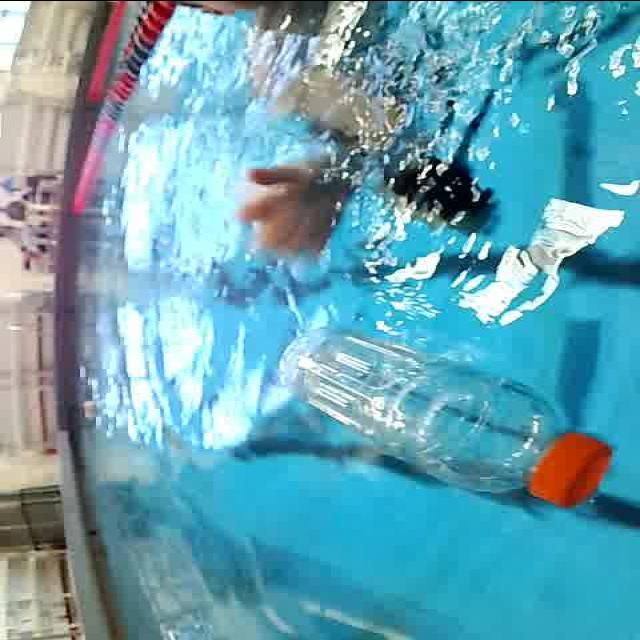Bottle: (272, 315, 620, 512)
